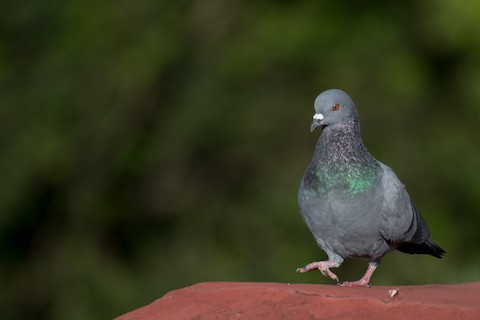pigeon: (292, 87, 447, 291)
